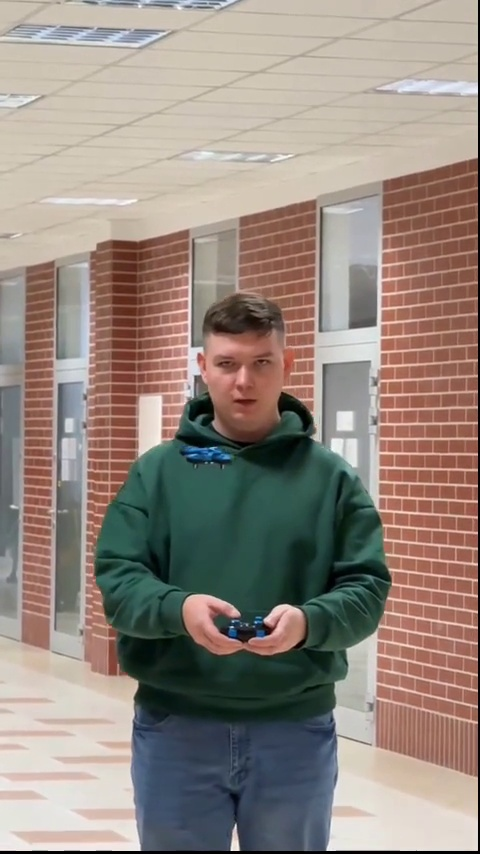drone: (180, 440, 232, 471)
no vest: (96, 288, 381, 830)
